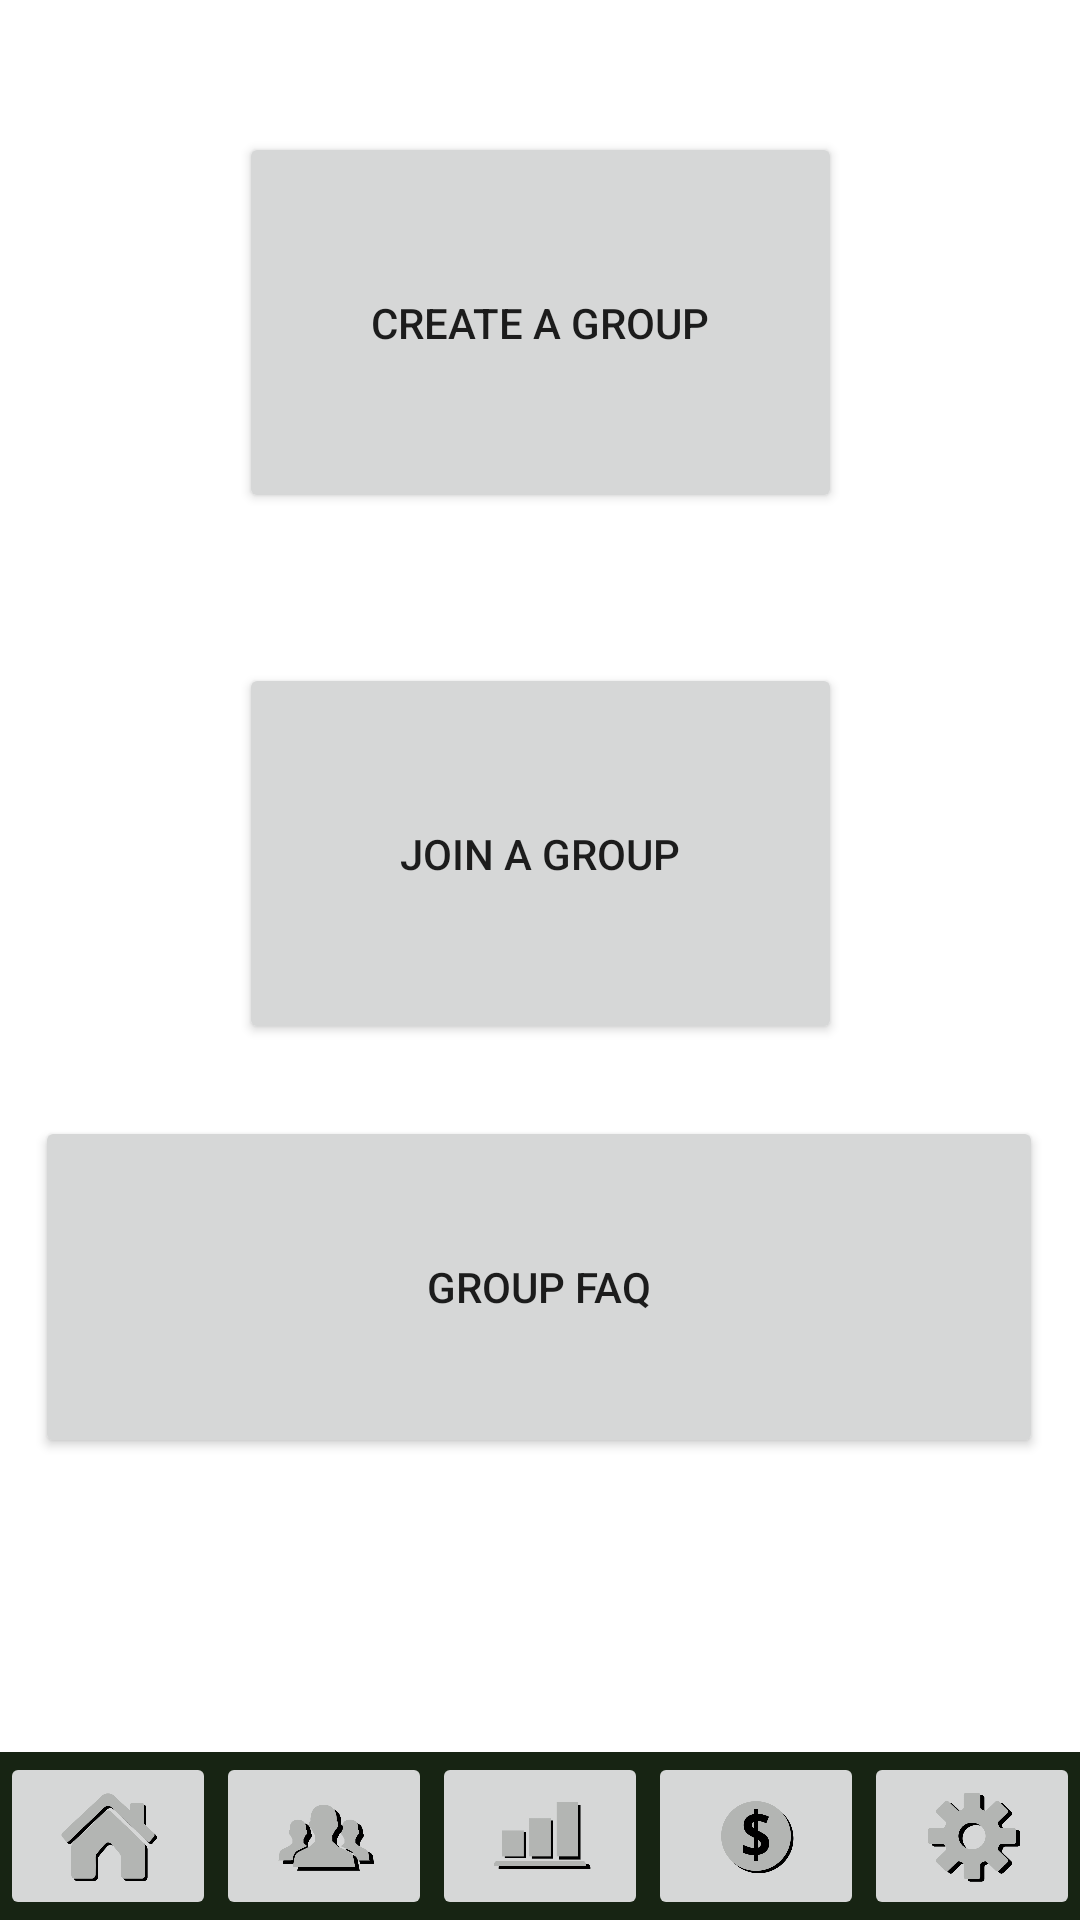

Icon click points for this 1080w x 1920h phone screenshot, format (x,y):
expensebutton: (756,1836)
groupbutton: (324,1836)
homebutton: (108,1836)
reportbutton: (540,1836)
settingsbutton: (972,1836)
